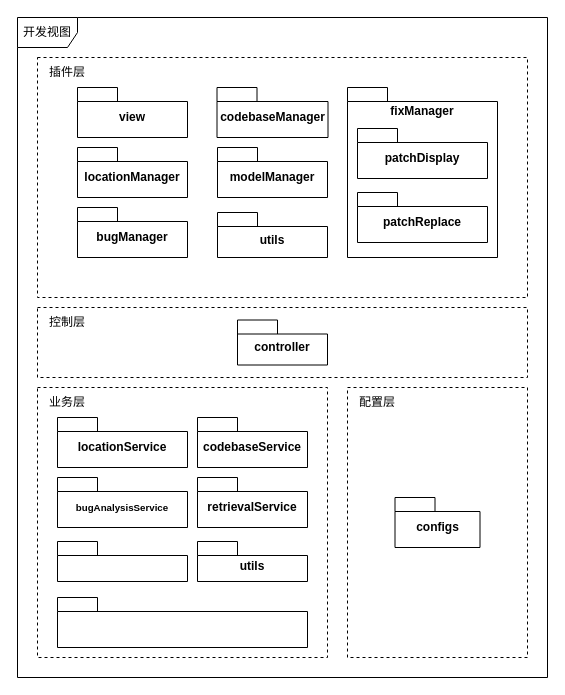
Image size: 565x695. Some labels were removed from this diagram. Each missing label, with the centre of its shape:
fixService: (122,561)
modelManagementService: (182,622)
